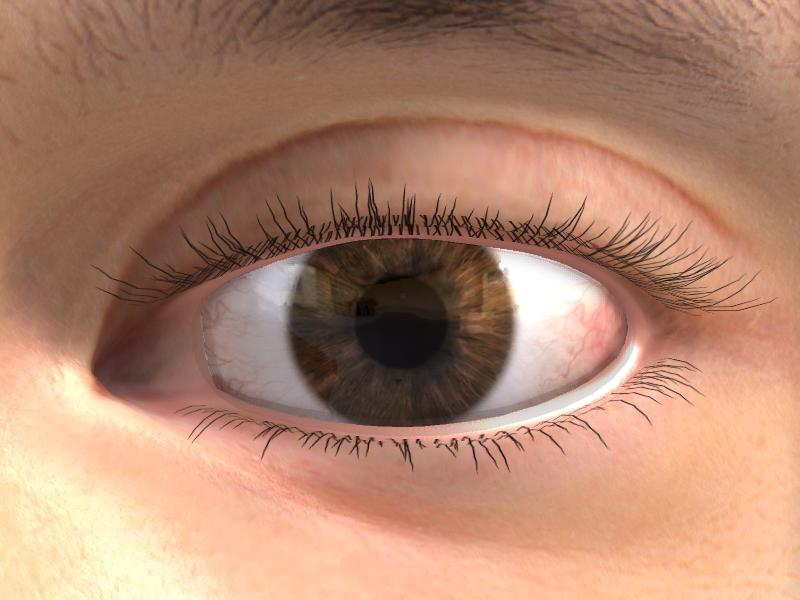eye: (290, 239, 517, 420)
